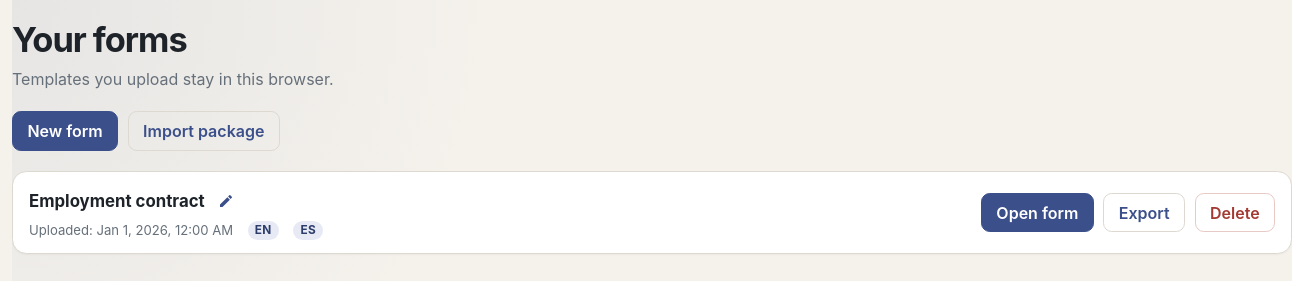
Test case: LibraryPage › restores the original name when renaming is cancelled
Click the button named "Rename" at [226, 201], box [211,186,242,216]
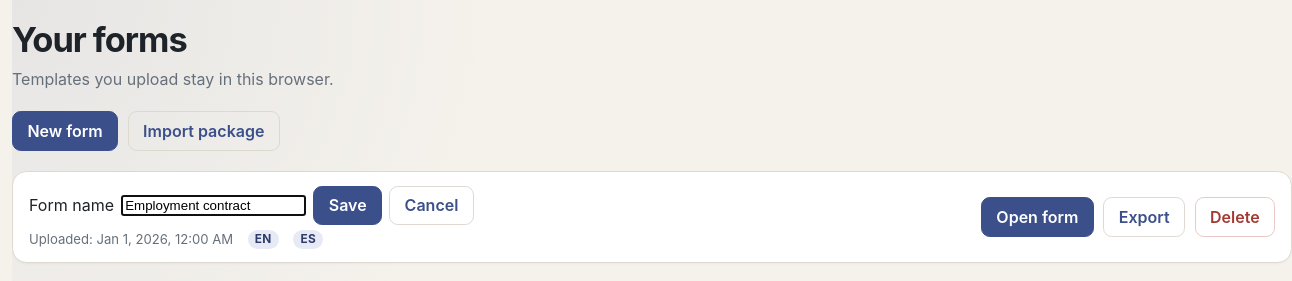
Replace the text in the field labelled "Form name" with "Discarded name" at [214, 205], box [121,195,306,216]
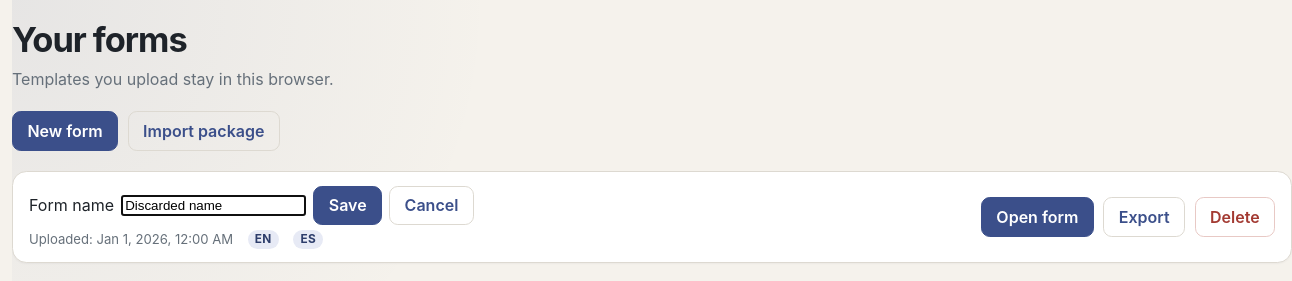
Click the button "Cancel" at [431, 205], box [389,186,474,225]
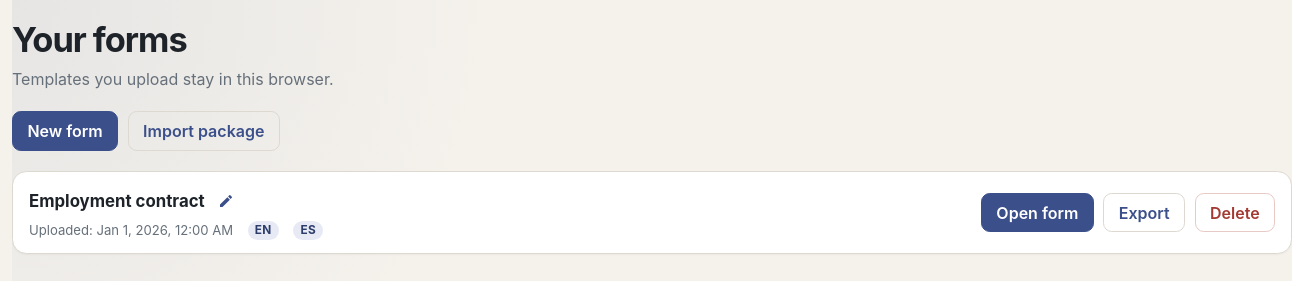
Now the link "Employment contract" is shown, box [29,191,205,211]
Now the label labelled "Form name" is gone
